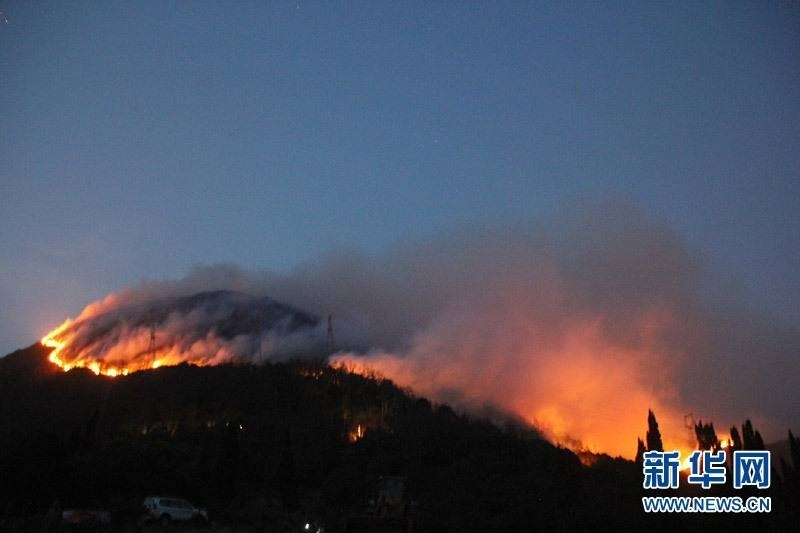fire: (38, 321, 236, 375)
